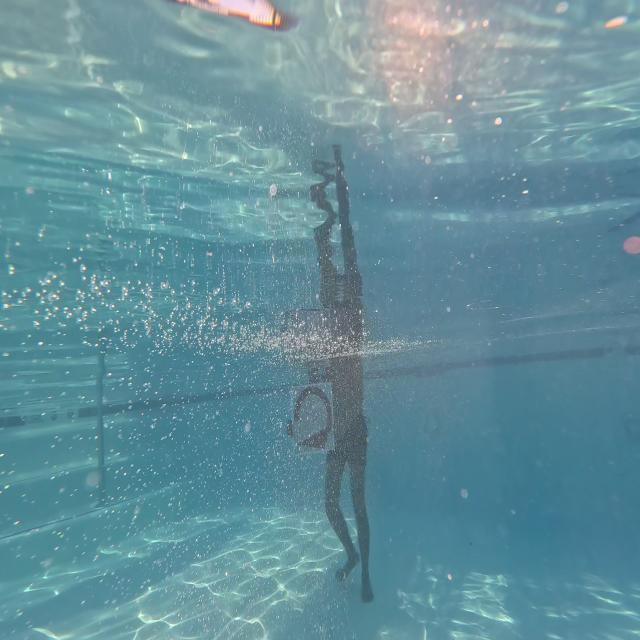red_side: (289, 383, 335, 452)
